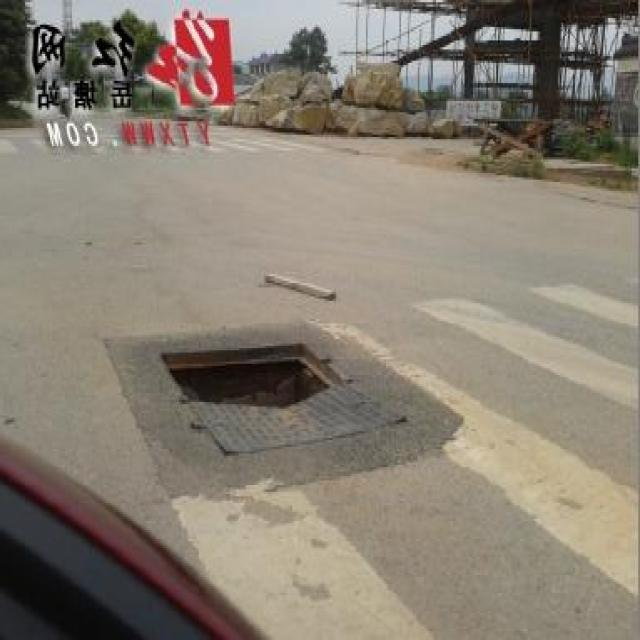manhole-cover: (157, 342, 386, 453)
